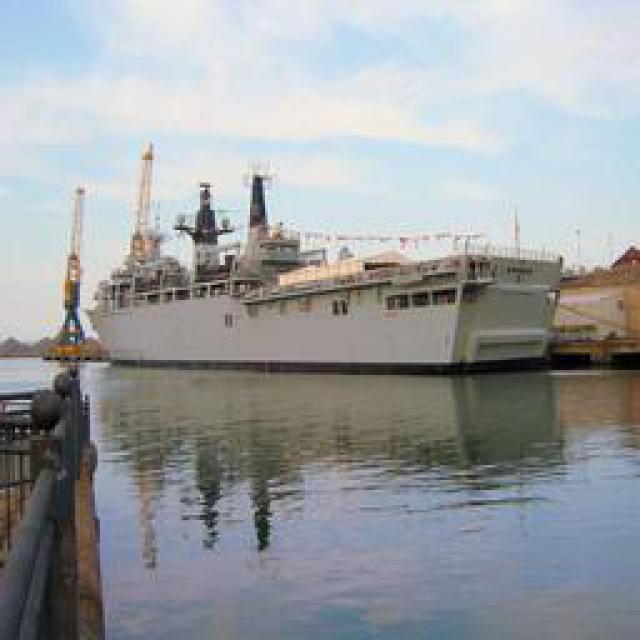Ship: (80, 160, 565, 370)
